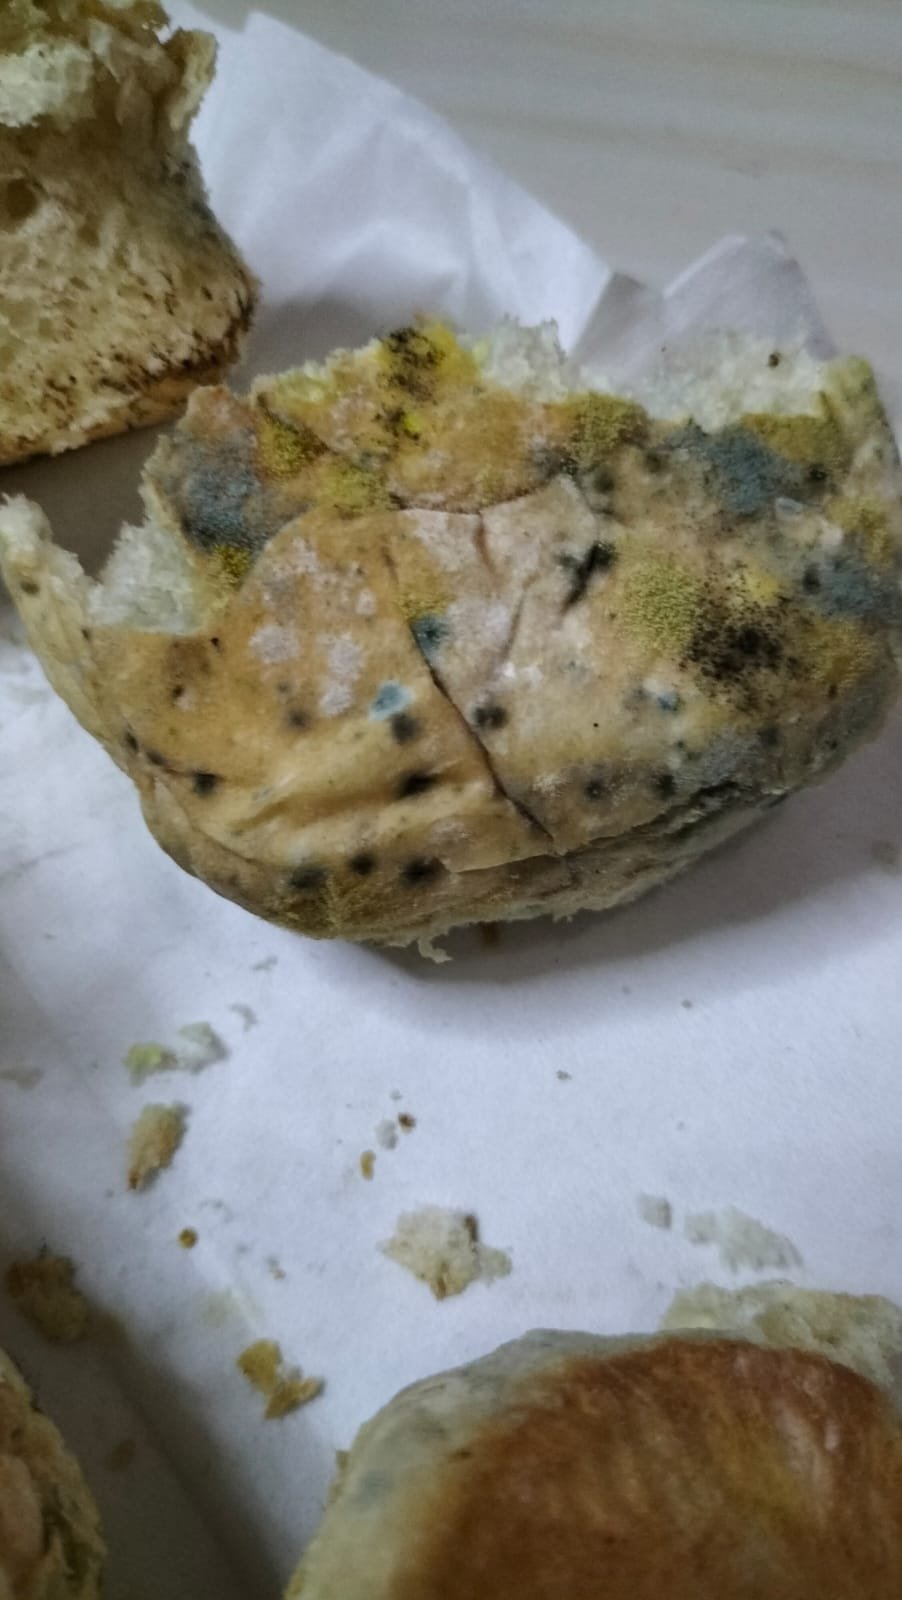mold_bread: (143, 422, 271, 596), (671, 420, 821, 524), (686, 585, 809, 707), (517, 393, 641, 503), (547, 522, 612, 624), (369, 677, 423, 754), (402, 593, 458, 662), (626, 675, 699, 723), (245, 621, 303, 667), (570, 762, 621, 814), (461, 692, 516, 740), (388, 762, 446, 805), (397, 851, 445, 893), (183, 762, 229, 805), (277, 857, 323, 896), (345, 847, 383, 881), (114, 723, 145, 760)
